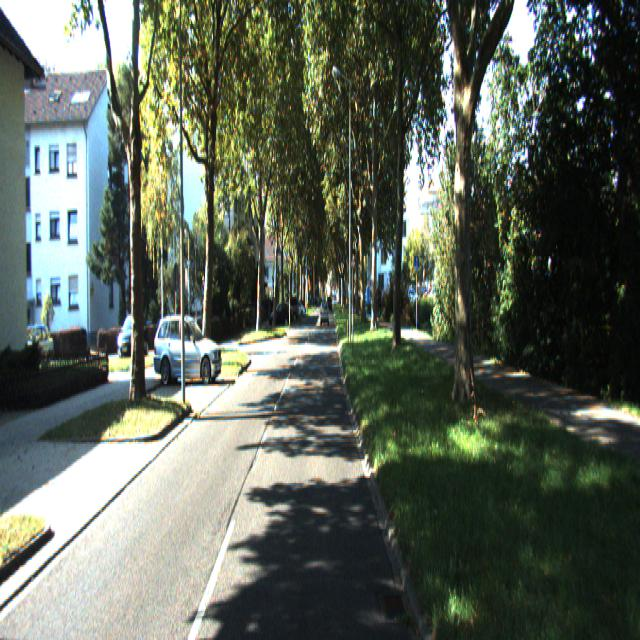Car: (150, 318, 224, 388)
